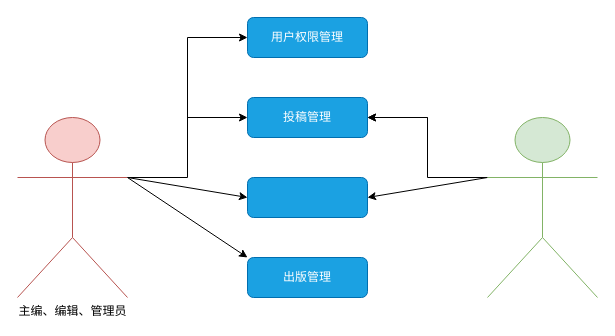
This 615x336 diagram has some shape labels left out. The shapes that lost their labels are listed below. From the top down, each one's box as (x1, y1, x2, y2) in pixels, then its label:
(246, 176, 368, 218): 评审管理
(486, 116, 598, 298): 作者、审稿专家
